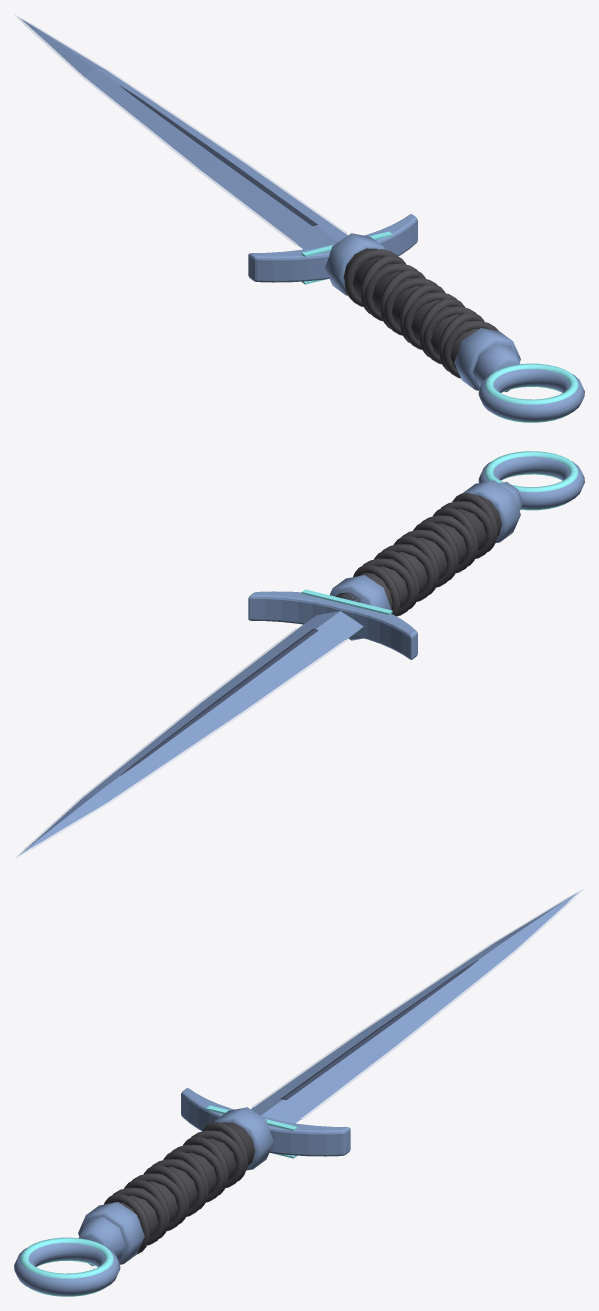
File: needle.glb
3 renders of one model, top to bottom at view 1: azimuth 30°, elevation 25°; view 2: azimuth 150°, elevation 25°; view 3: azimuth 330°, elevation 25°, orthographic.
Visible parts, largest first — view 1: Needle; view 2: Needle; view 3: Needle.
Part boxes in pixels (left/top/right/bottom): Needle: left=14, top=14, right=584, bottom=422; Needle: left=14, top=451, right=584, bottom=859; Needle: left=14, top=888, right=584, bottom=1296.
Bounding box in the file's own units: 0.06 × 0.0205 × 0.3449.
